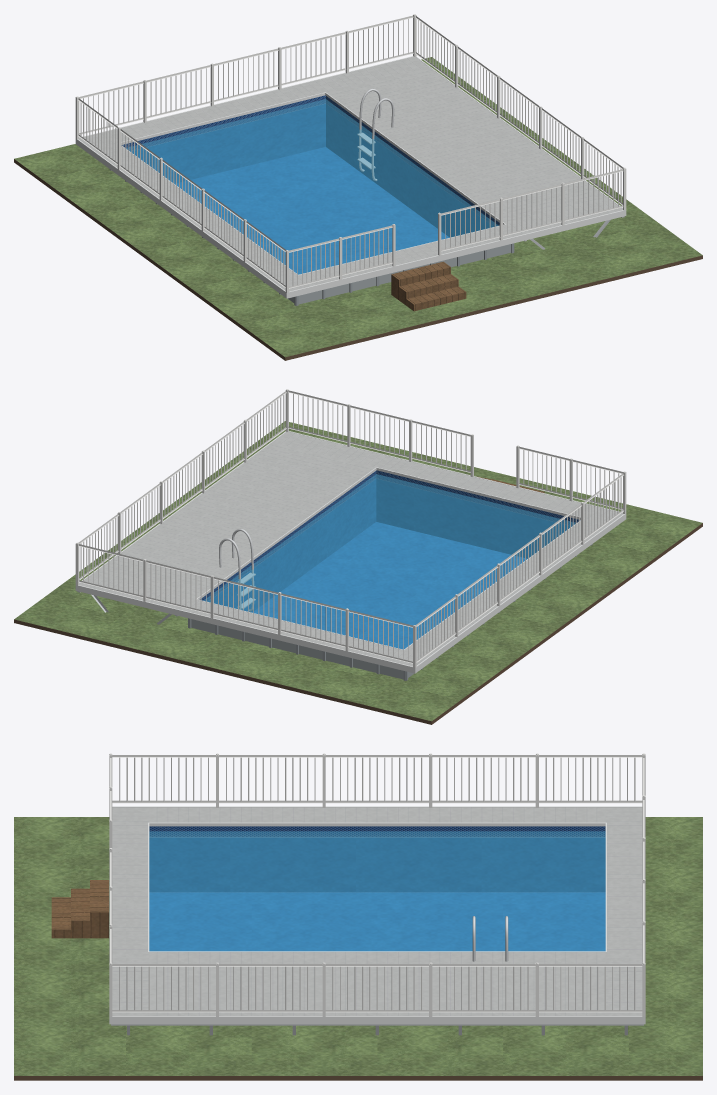
The model's file is kayak-pool-16x24-gray-side-rec-fence.cdf67ed355.glb.
3 renders of one model, top to bottom at view 1: azimuth 30°, elevation 25°; view 2: azimuth 150°, elevation 25°; view 3: azimuth 270°, elevation 25°, orthographic. The views are drawn at different scales.
Visible parts, largest first — view 1: ground, water, deck, fence, liner_floor, liner_wall, fascia, soil, steps, wall, steel; view 2: ground, water, deck, fence, liner_floor, liner_wall, fascia, soil, wall, steel; view 3: ground, water, deck, liner_wall, liner_floor, fence, fascia, soil, steps, stud.
Boxes of the visible parts, left/top/right/bottom form: ground: left=14, top=57, right=702, bottom=357; water: left=126, top=99, right=498, bottom=274; deck: left=78, top=56, right=622, bottom=291; fence: left=75, top=14, right=626, bottom=292; liner_floor: left=175, top=147, right=449, bottom=274; liner_wall: left=121, top=95, right=499, bottom=237; fascia: left=75, top=56, right=626, bottom=298; soil: left=14, top=159, right=702, bottom=360; steps: left=391, top=261, right=466, bottom=311; wall: left=288, top=244, right=510, bottom=304; steel: left=357, top=88, right=394, bottom=180; ground: left=14, top=421, right=702, bottom=721; water: left=203, top=474, right=575, bottom=649; deck: left=79, top=431, right=623, bottom=666; fence: left=75, top=389, right=626, bottom=667; liner_floor: left=252, top=522, right=527, bottom=649; liner_wall: left=200, top=470, right=580, bottom=612; fascia: left=75, top=431, right=626, bottom=673; soil: left=14, top=523, right=702, bottom=724; wall: left=191, top=619, right=414, bottom=679; steel: left=219, top=528, right=255, bottom=611; ground: left=14, top=817, right=702, bottom=1075; water: left=149, top=831, right=605, bottom=951; deck: left=112, top=807, right=642, bottom=1015; liner_wall: left=149, top=826, right=605, bottom=892; liner_floor: left=149, top=892, right=605, bottom=951; fence: left=109, top=753, right=645, bottom=1016; fascia: left=109, top=806, right=645, bottom=1024; soil: left=14, top=1076, right=702, bottom=1080; steps: left=51, top=880, right=108, bottom=938; stud: left=111, top=1024, right=643, bottom=1035.
Bounding box in the file's own units: 9.75 × 2.15 × 10.97.
Materials: 13 (5 with a texture image).
